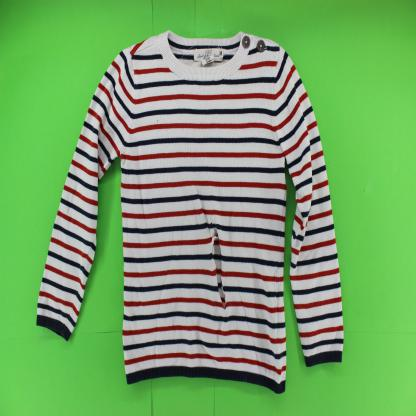hole: (208, 208, 229, 312)
